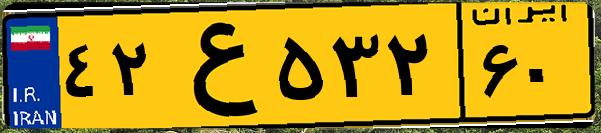0: (525, 38, 570, 115)
2: (385, 28, 445, 110), (110, 28, 158, 98)
3: (330, 28, 385, 110)
4: (57, 26, 110, 100)
5: (270, 28, 330, 110)
6: (475, 38, 525, 113)
ع: (158, 12, 270, 120)
